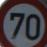Speed Limit -70-: (1, 0, 46, 46)
